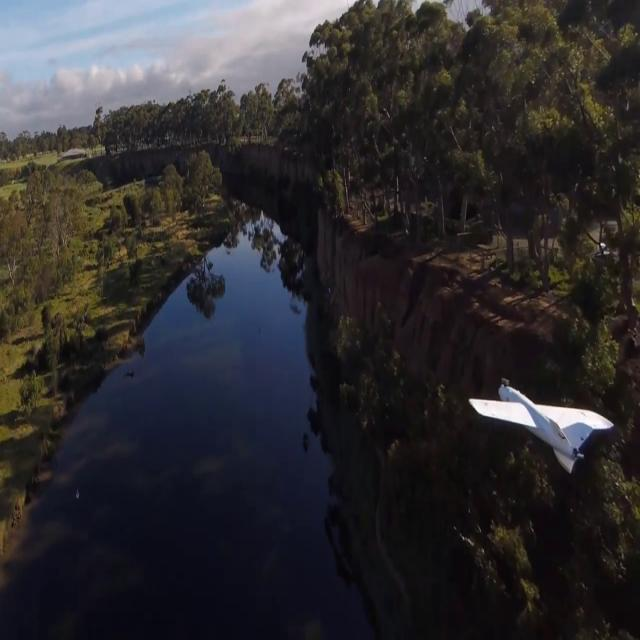iha: (466, 404, 616, 440)
